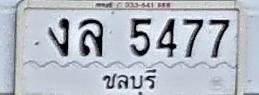4: (156, 17, 177, 57)
5: (130, 17, 152, 56)
7: (182, 18, 204, 57), (208, 18, 230, 57)
A07: (48, 17, 70, 56)
A36: (78, 17, 104, 56)
CBI: (100, 65, 159, 95)
